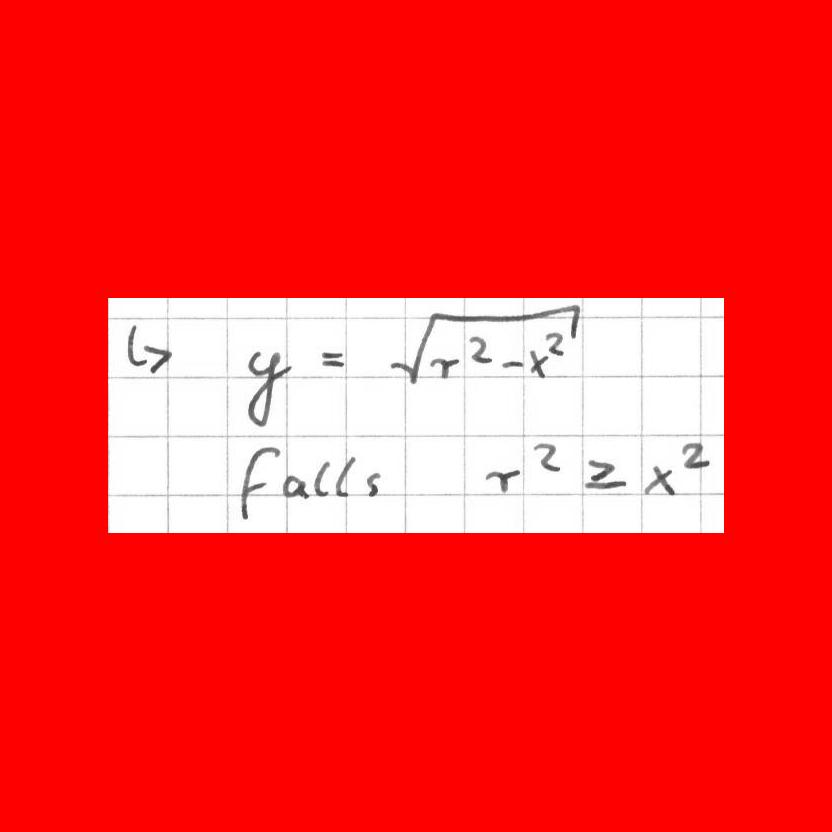Char: (381, 298, 583, 384), (243, 345, 296, 431), (236, 440, 279, 519), (122, 318, 179, 377), (331, 451, 360, 498), (639, 461, 678, 495), (529, 440, 563, 474), (679, 438, 715, 468), (315, 342, 346, 376), (484, 466, 521, 494), (582, 454, 620, 481), (430, 352, 462, 381), (311, 456, 334, 496), (280, 469, 309, 500), (360, 469, 387, 501), (467, 332, 492, 365), (543, 328, 567, 359), (527, 346, 549, 377), (582, 479, 634, 492), (501, 355, 525, 374)
